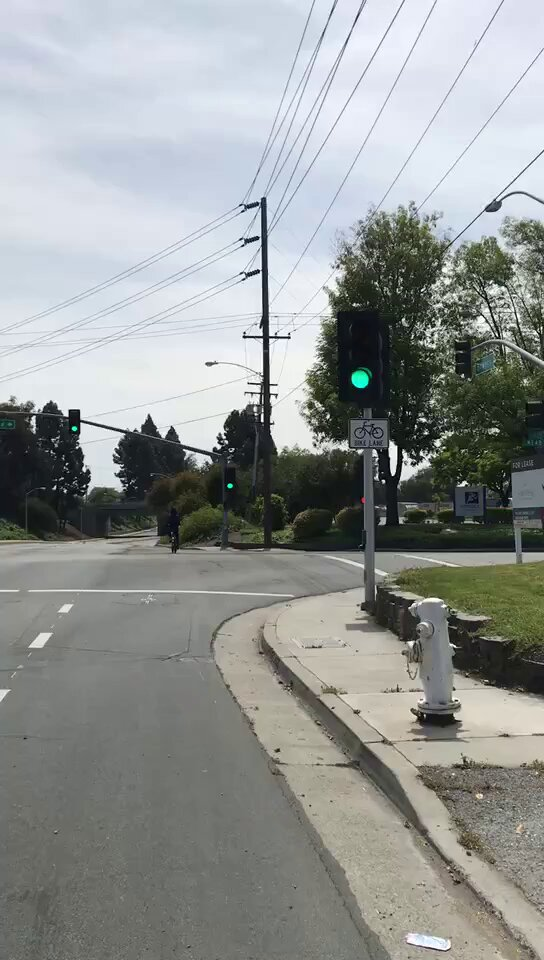green_light: (338, 313, 385, 399), (224, 465, 236, 492), (70, 410, 80, 435)
